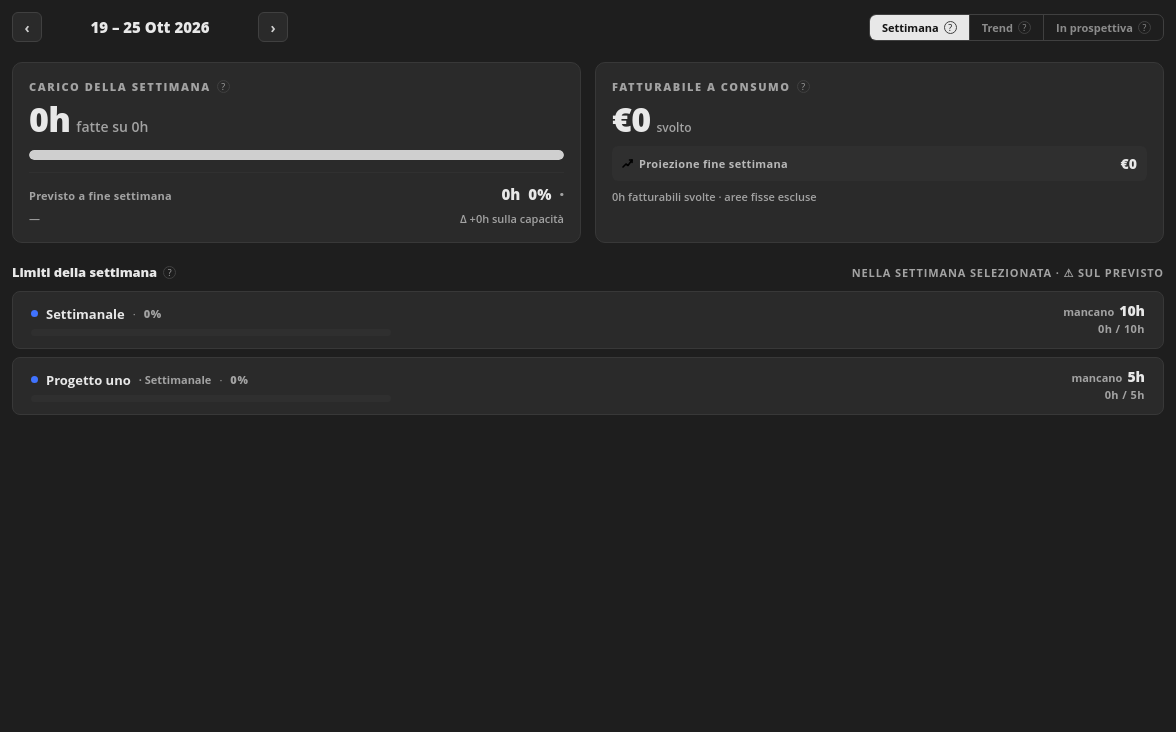
Test: ProgressScreen / Settimana: limiti e budget › In prospettiva: il riepilogo conta i tetti per fascia, con le parole delle card
Expected: the heading "Limiti della settimana" is shown, left=12, top=263, right=157, bottom=281
Click the button "In prospettiva": [1094, 27] box left=1056, top=20, right=1133, bottom=34
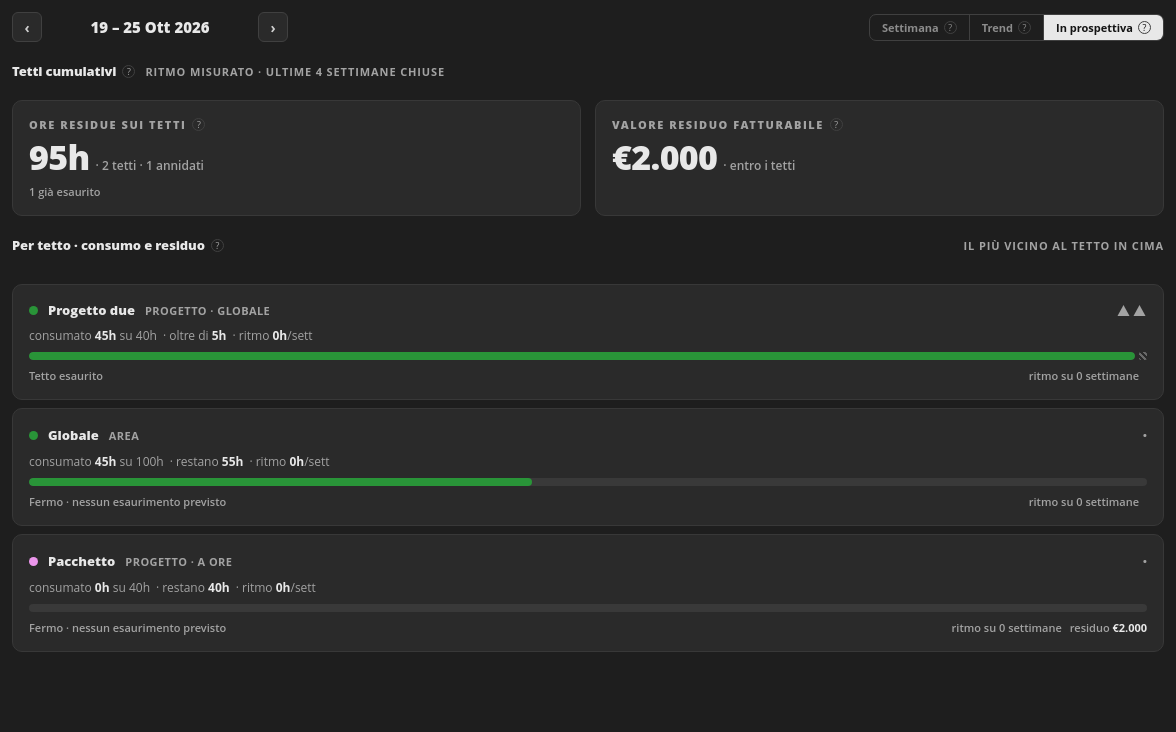
Expected: the text "1 già esaurito" is shown, left=29, top=184, right=100, bottom=199
